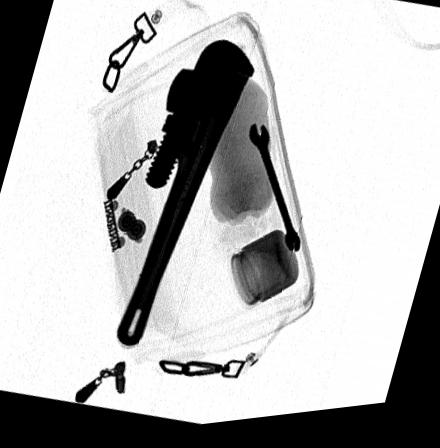Wrench: (117, 43, 257, 350), (246, 127, 305, 259)
